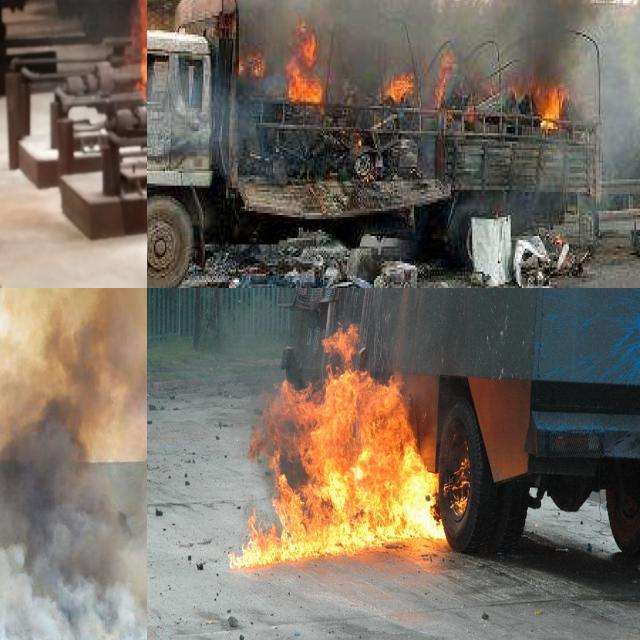fire: (227, 324, 456, 573), (245, 16, 333, 108), (376, 47, 468, 119), (521, 73, 569, 134)
smoke: (237, 0, 640, 169), (0, 288, 147, 640)
